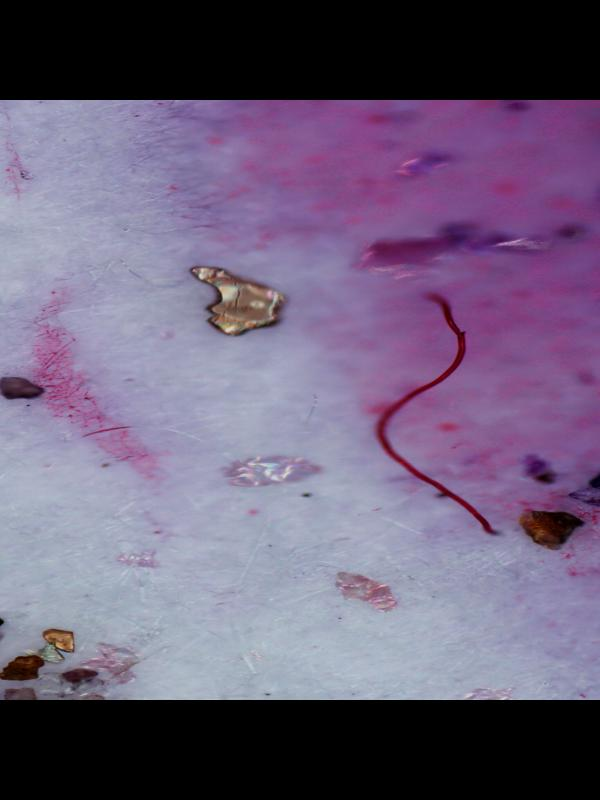microplastic: (374, 292, 501, 536), (188, 266, 287, 337)
